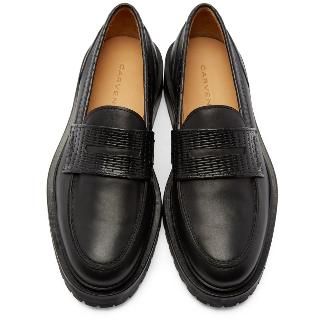loafers: (39, 0, 281, 314)
